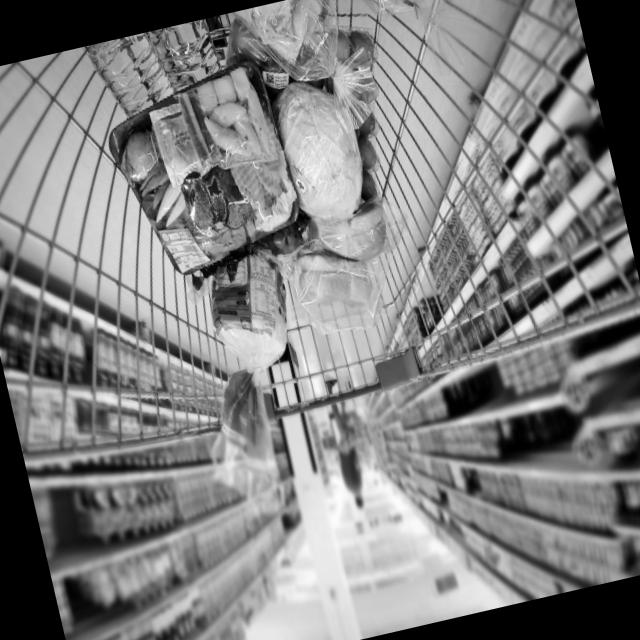banh mi: (175, 243, 327, 512), (231, 0, 341, 91)
bap cai: (261, 69, 374, 234)
tao: (227, 11, 330, 99)
trung: (310, 22, 404, 204)
